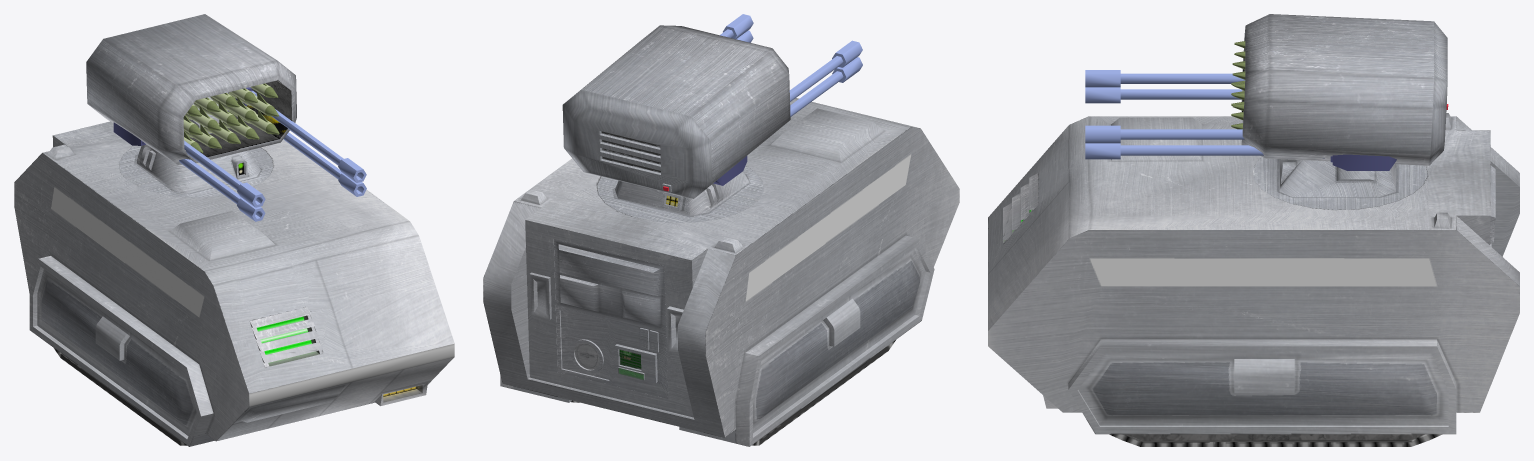
The model's file is AALSP_ASV.fbx.
3 renders of one model, left to right at view 1: azimuth 30°, elevation 25°; view 2: azimuth 150°, elevation 25°; view 3: azimuth 270°, elevation 25°, orthographic. The views are drawn at different scales.
Parts seen in each view (by area): view 1: ASV_Hull, RocketLauncher, WeaponSupport, AA_Cannon1; view 2: ASV_Hull, RocketLauncher, Boarding_Door, WeaponSupport, AA_Cannon1; view 3: ASV_Hull, RocketLauncher, AA_Cannon1, WeaponSupport.
Part boxes in pixels (x1,y1,x2,y2): ASV_Hull: (14, 121, 454, 446); RocketLauncher: (86, 14, 296, 164); WeaponSupport: (119, 144, 273, 197); AA_Cannon1: (113, 87, 366, 221); ASV_Hull: (483, 98, 959, 446); RocketLauncher: (562, 25, 790, 198); Boarding_Door: (554, 239, 668, 398); WeaponSupport: (597, 166, 763, 222); AA_Cannon1: (713, 14, 862, 185); ASV_Hull: (988, 113, 1519, 446); RocketLauncher: (1241, 14, 1448, 165); AA_Cannon1: (1085, 70, 1396, 170); WeaponSupport: (1253, 157, 1427, 209).
Bounding box in the file's own units: 1.64 × 1.96 × 2.73.
